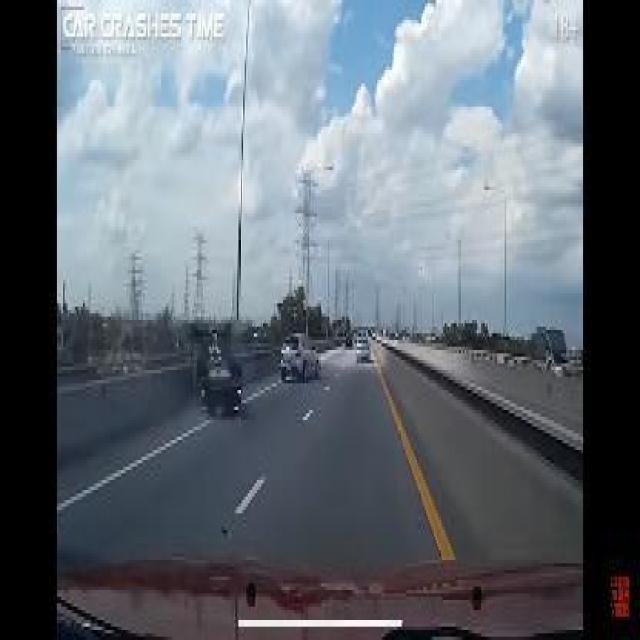accident: (178, 300, 256, 420)
